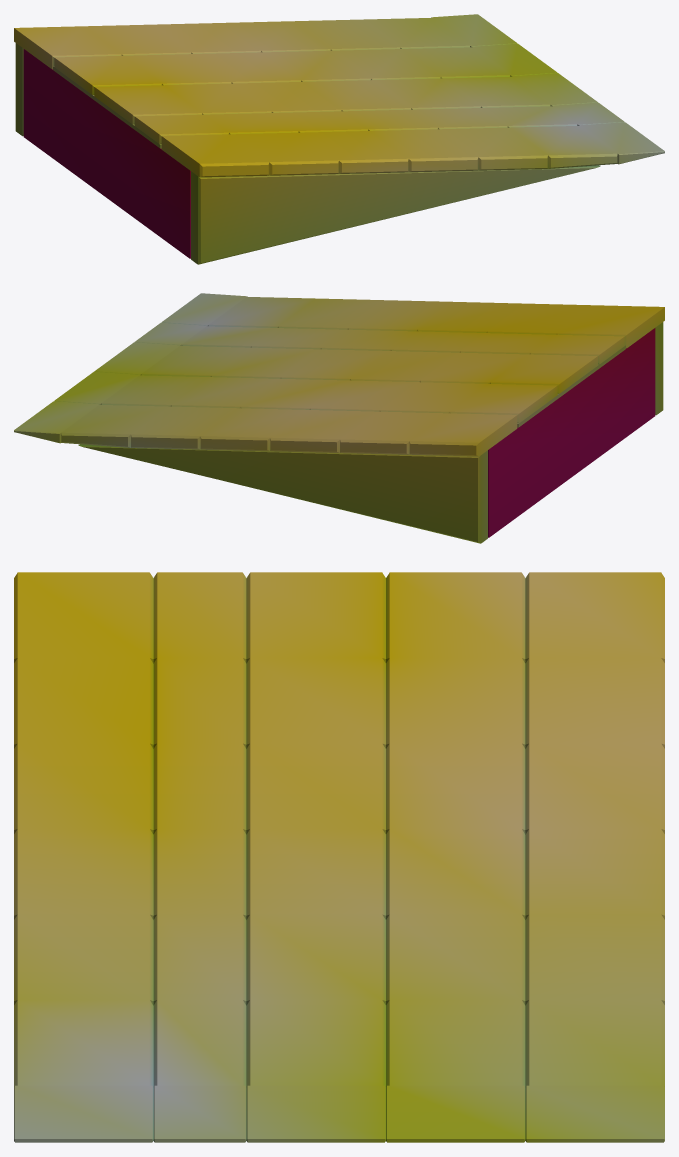
File: Platform_Ramp_End_NoStripe.fbx
3 renders of one model, top to bottom at view 1: azimuth 30°, elevation 25°; view 2: azimuth 150°, elevation 25°; view 3: azimuth 270°, elevation 25°, orthographic. The views are drawn at different scales.
Visible parts, largest first — view 1: Platform_Ramp_End_NoStripe; view 2: Platform_Ramp_End_NoStripe; view 3: Platform_Ramp_End_NoStripe.
Part boxes in pixels (box(x1,y1,x2,y2)): Platform_Ramp_End_NoStripe: box(14, 14, 664, 264); Platform_Ramp_End_NoStripe: box(14, 293, 664, 543); Platform_Ramp_End_NoStripe: box(14, 572, 664, 1142).
Bounding box in the file's own units: 5 × 1.05 × 3.5.
